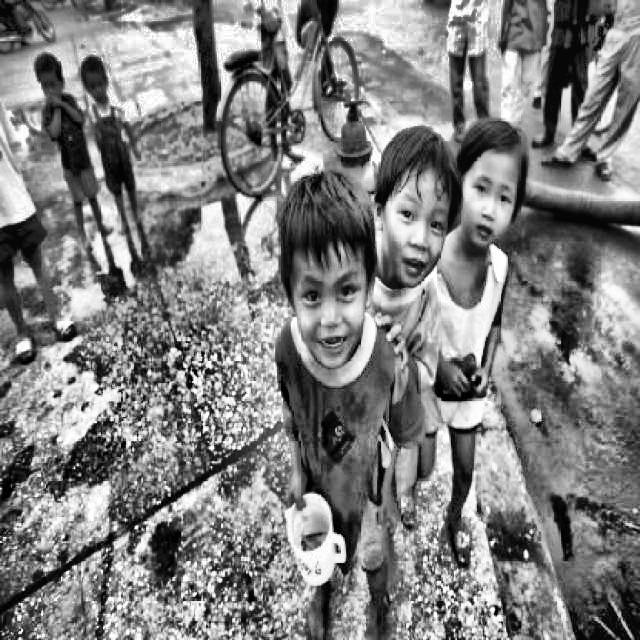happy: (258, 181, 375, 369)
